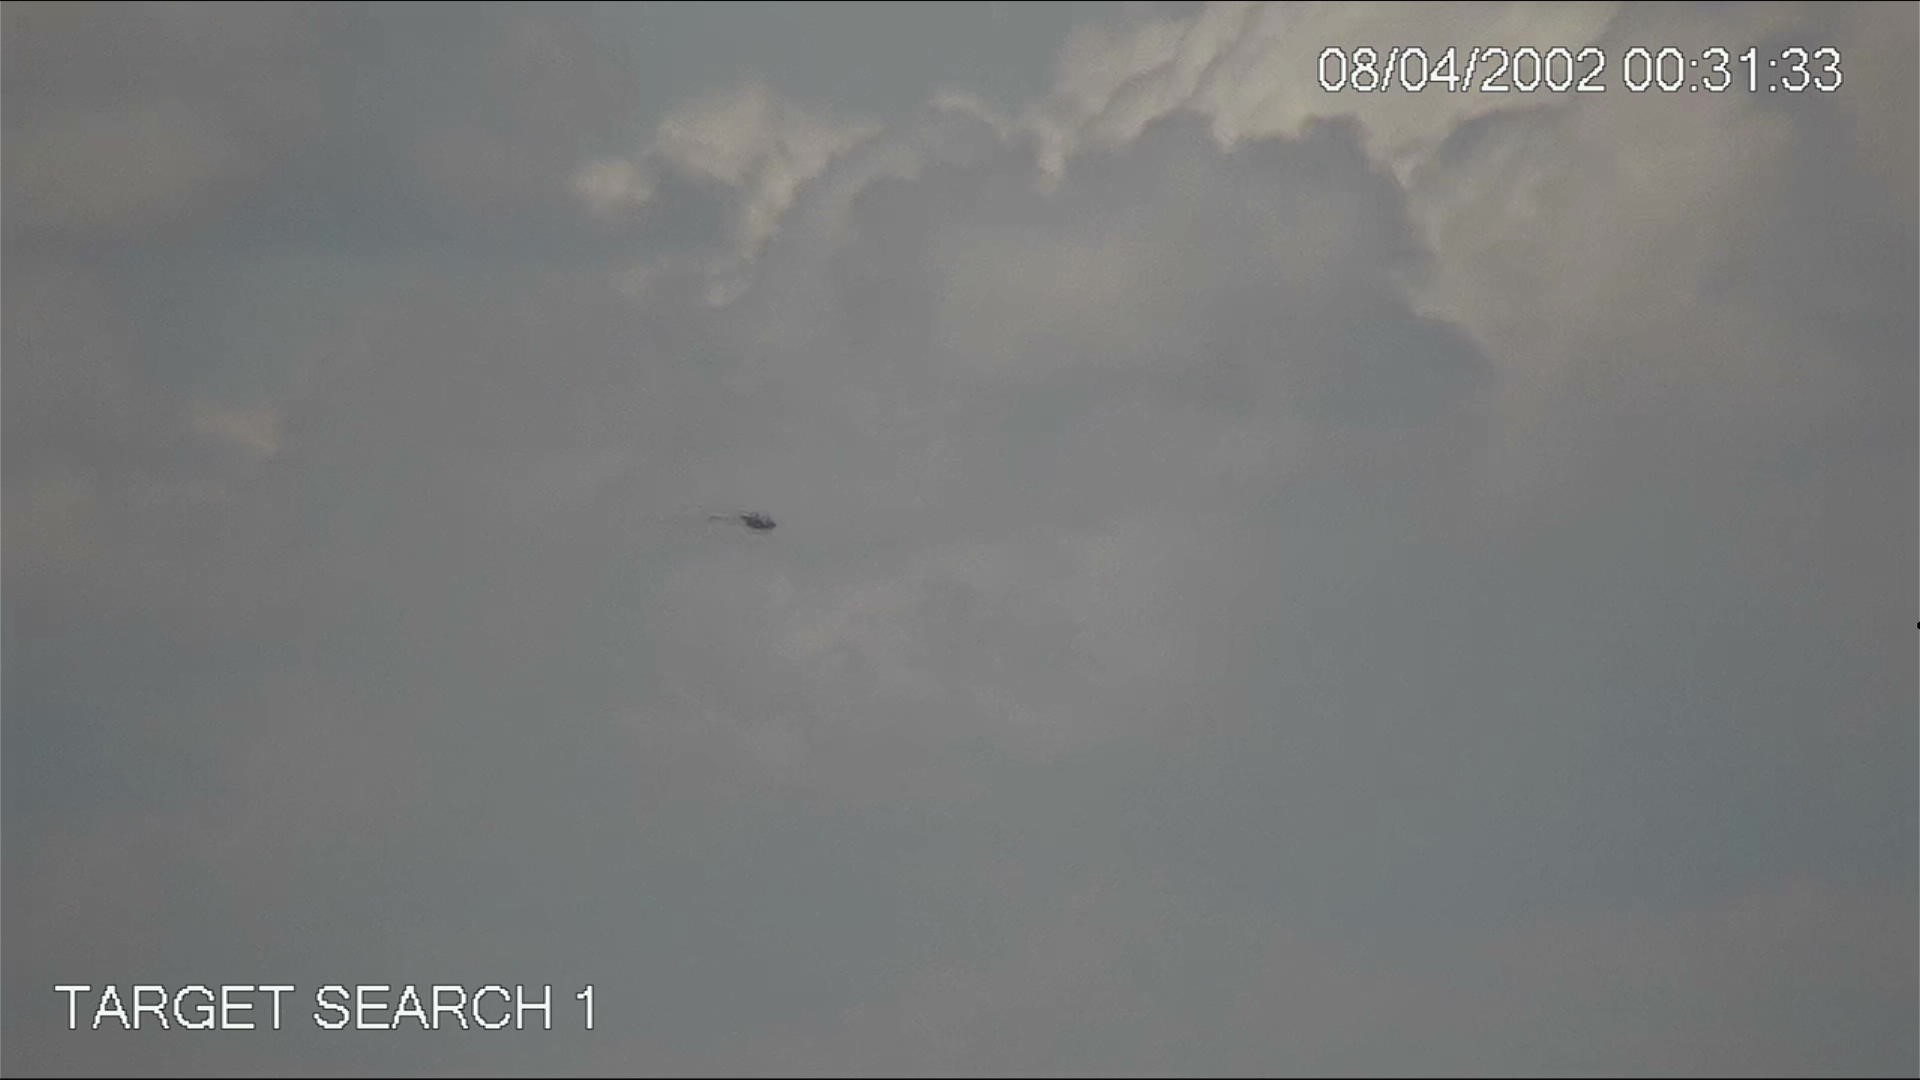SU_30: (703, 505, 786, 541)
